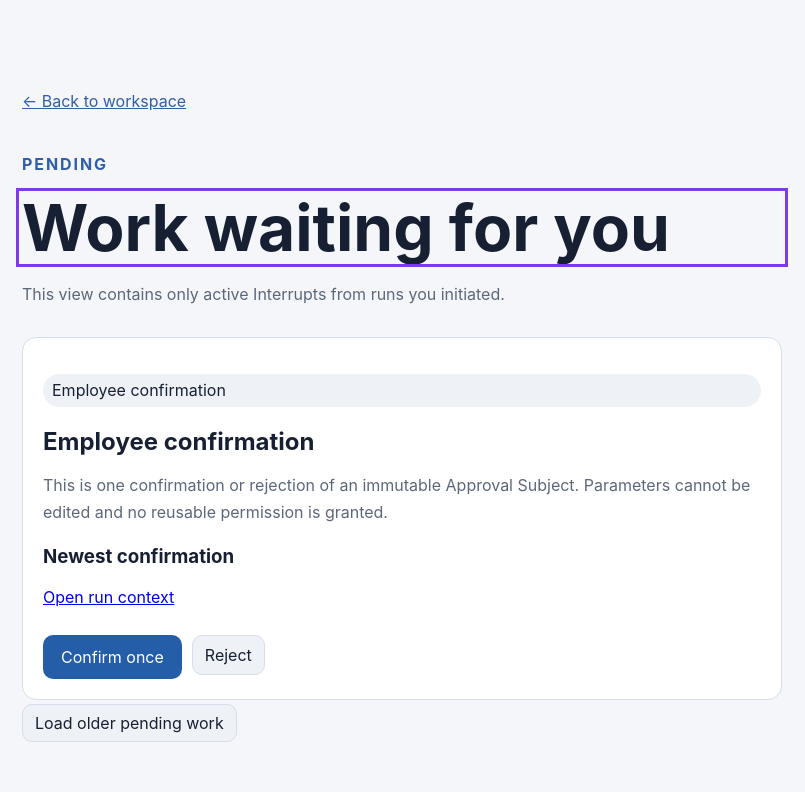
Test case: Pending Workspace › shows exact Run links and loads stable older pages
Expected: the heading "Newest confirmation" is shown, x1=43 y1=545 x2=234 y2=568
Click the button "Load older pending work" at (129, 723), box x1=22 y1=704 x2=237 y2=742
(page scrolled)
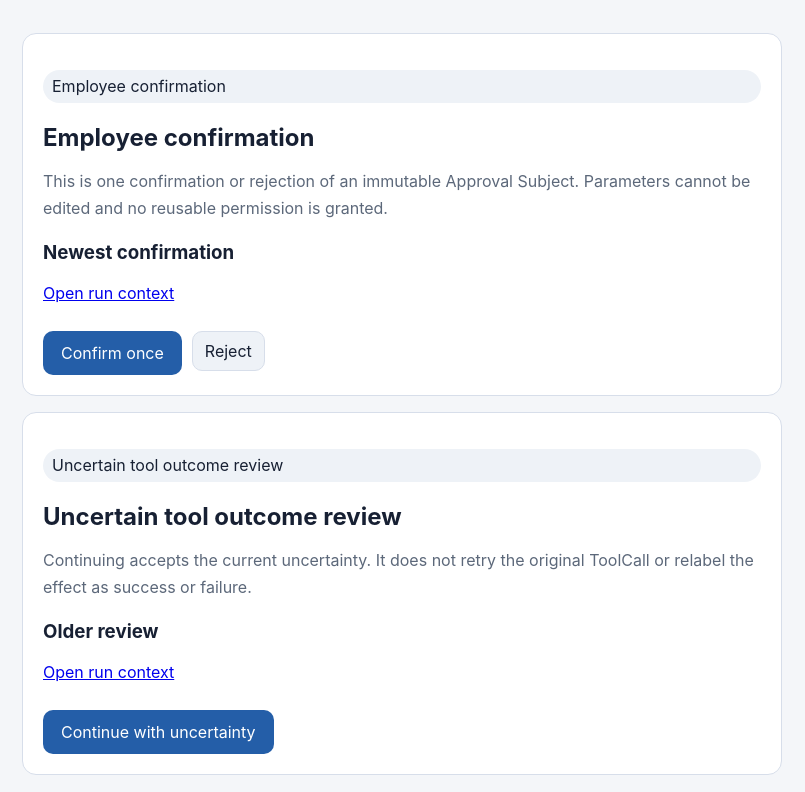
Expected: the heading "Older review" is shown, x1=43 y1=620 x2=158 y2=643
